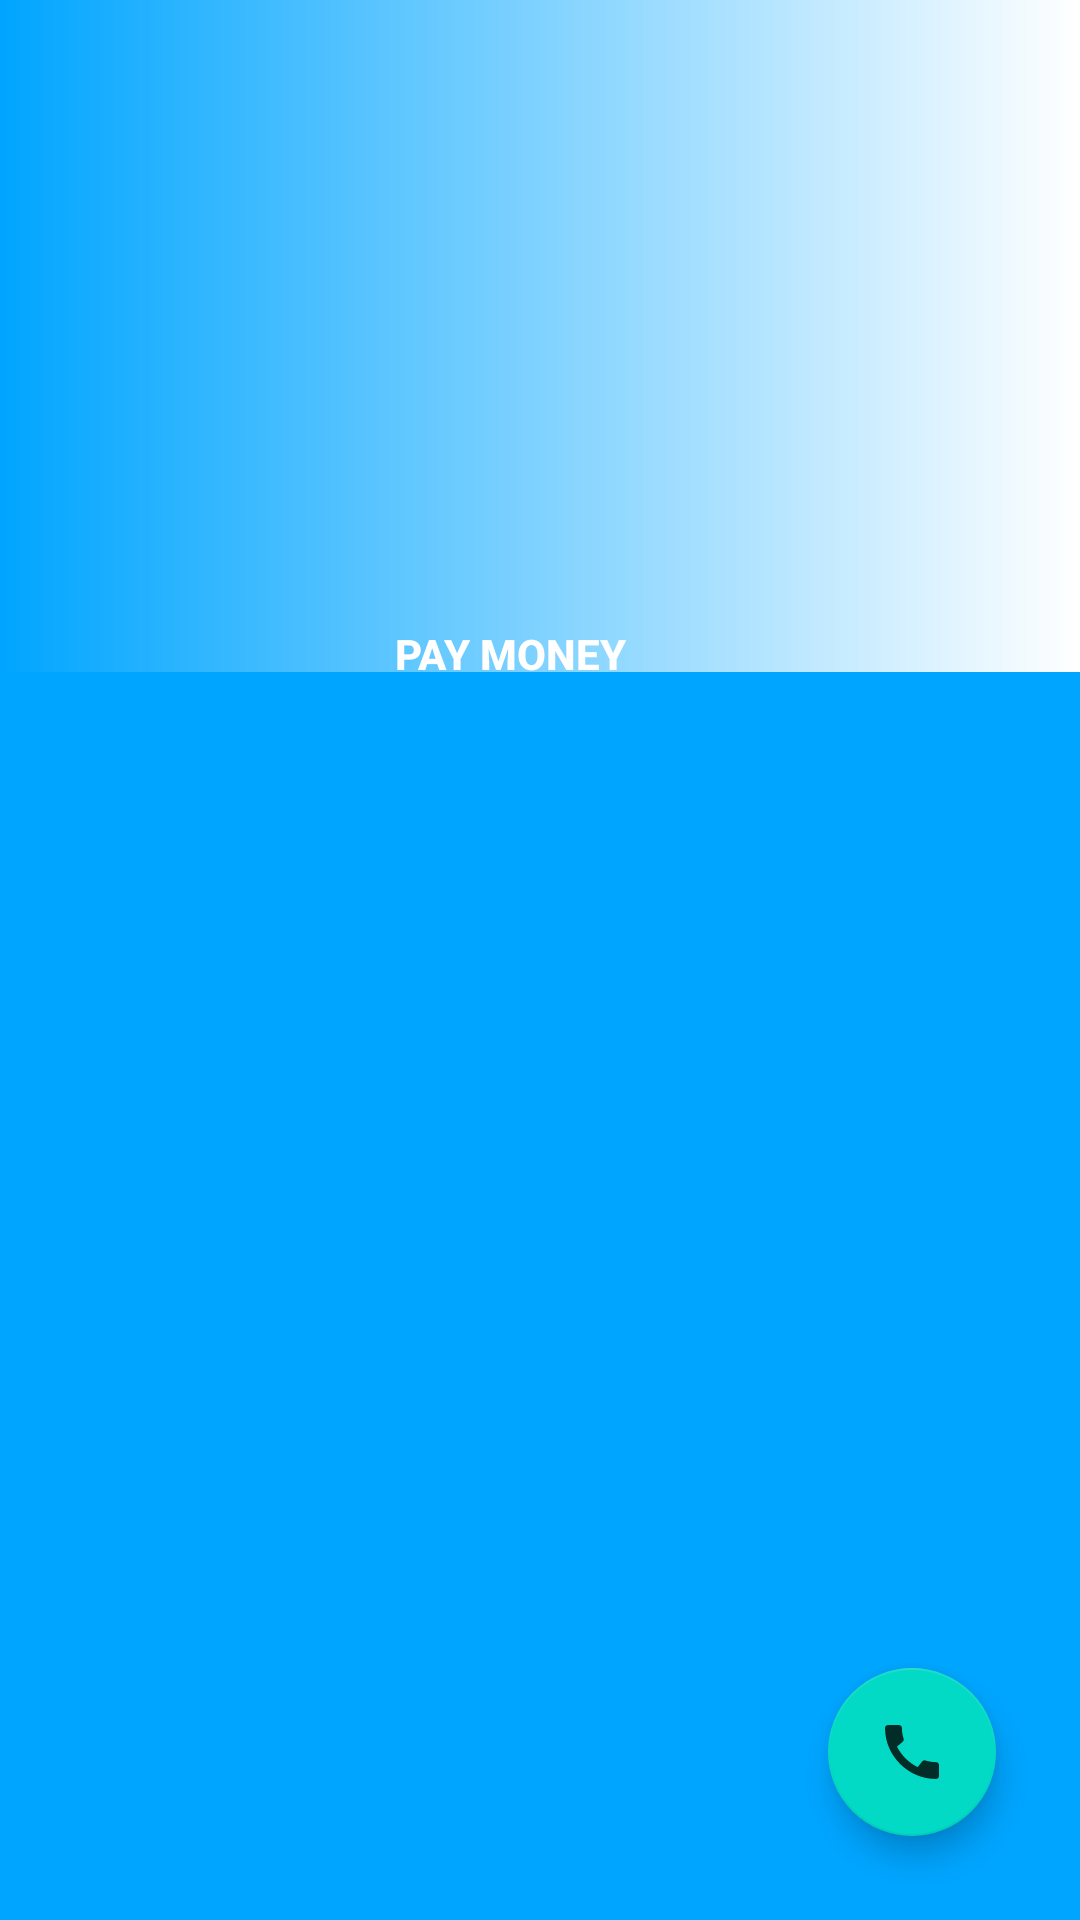

Locate icon controls on the screen. Image size 1080 x 1920, boxes as [x1=x1, y1=y1, x2=x2, y2=y2].
call: [x1=828, y1=1668, x2=996, y2=1836]
